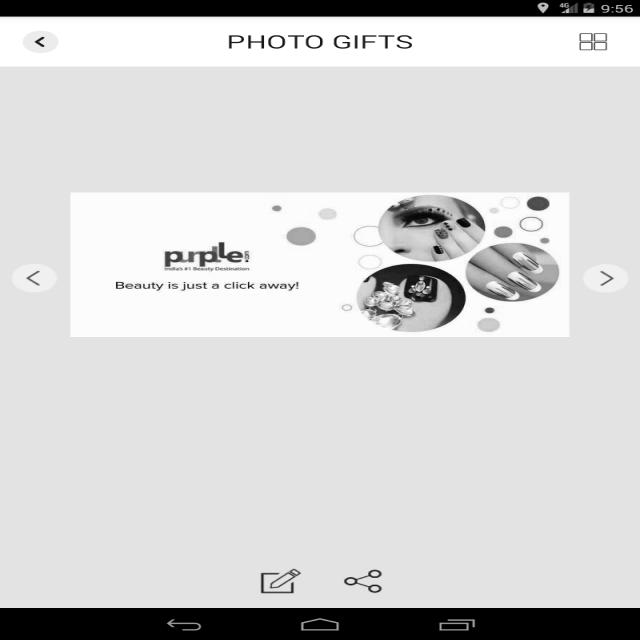ImageButton: (252, 560, 302, 596), (18, 263, 64, 295), (583, 260, 627, 291), (569, 31, 623, 54), (17, 30, 62, 54)
RadioButton: (345, 566, 405, 594)
TextView: (74, 193, 569, 337), (215, 32, 419, 56)
